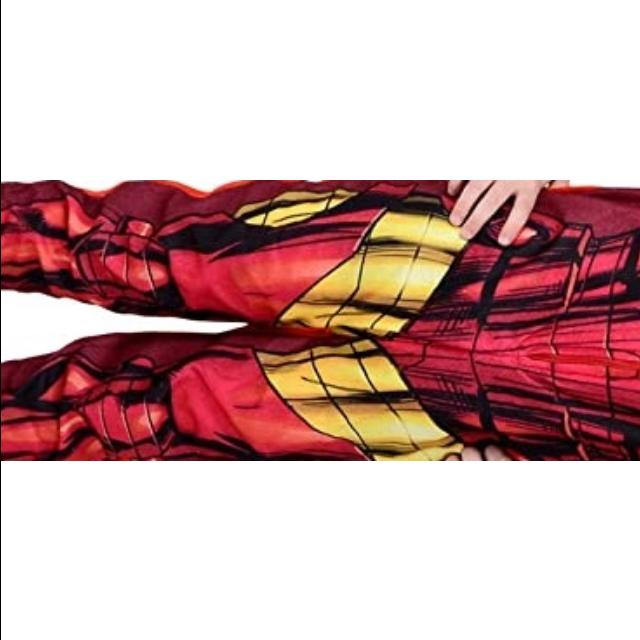polyester: (0, 180, 640, 460)
